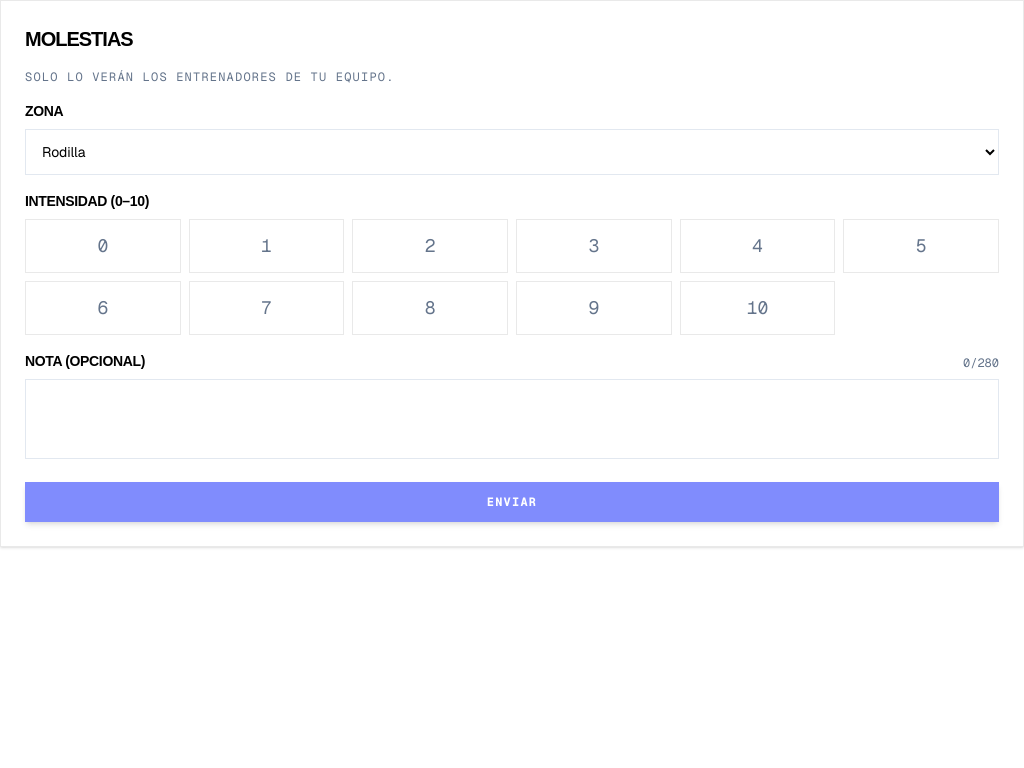
DiscomfortSection — reportar › error 409 → «El evento ya ha terminado»
This screenshot has width=1024, height=768.
What coordinates should you click on to do the following:
click the button "7"
I would click on:
 (267, 308)
Its box is [189,281,344,335].
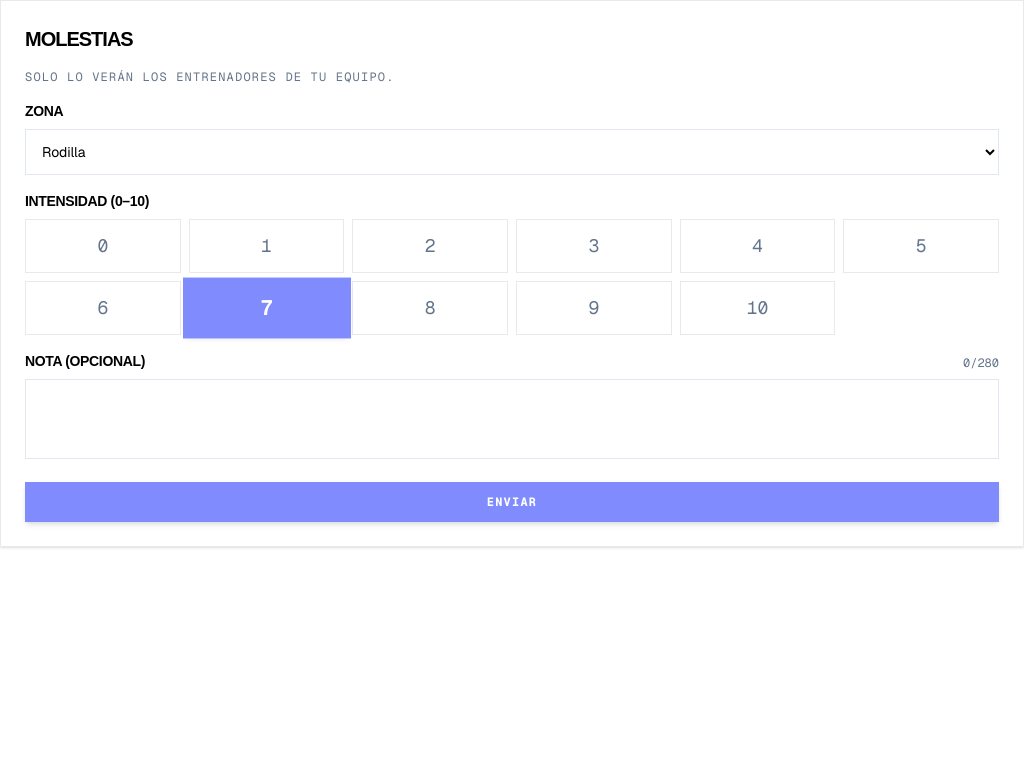
What coordinates should you click on to do the following:
click the button "Enviar"
I would click on:
 (512, 502)
Its box is [25,482,999,522].
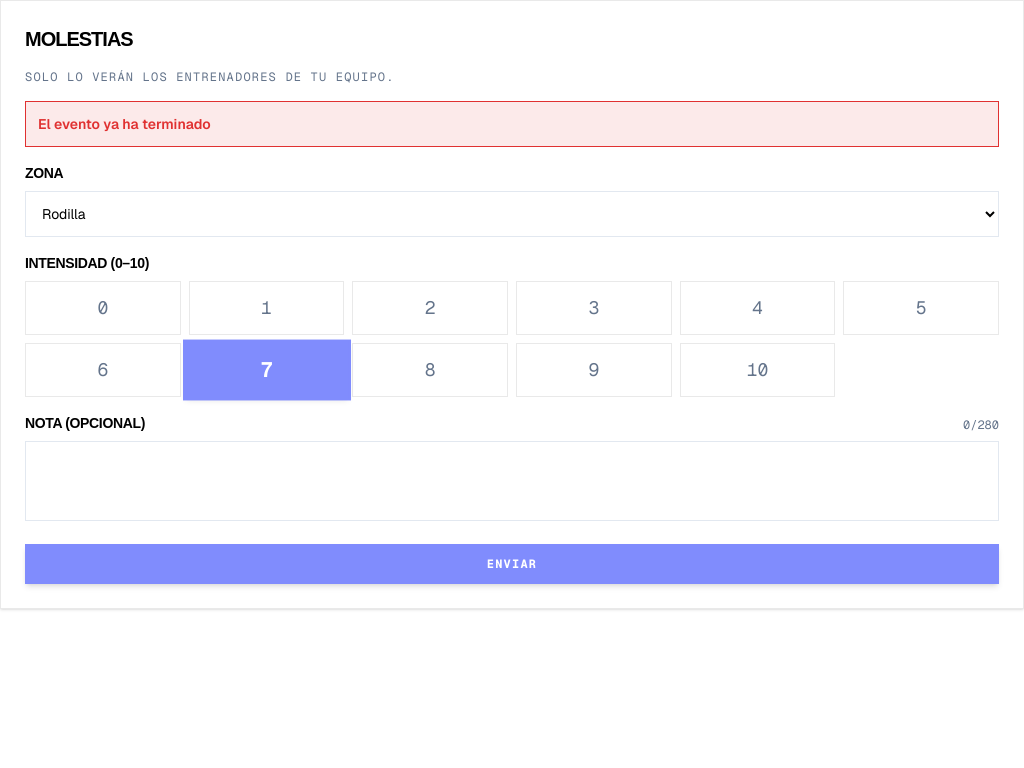
Check: the message reads "El evento ya ha terminado", box [38,115,211,133]
